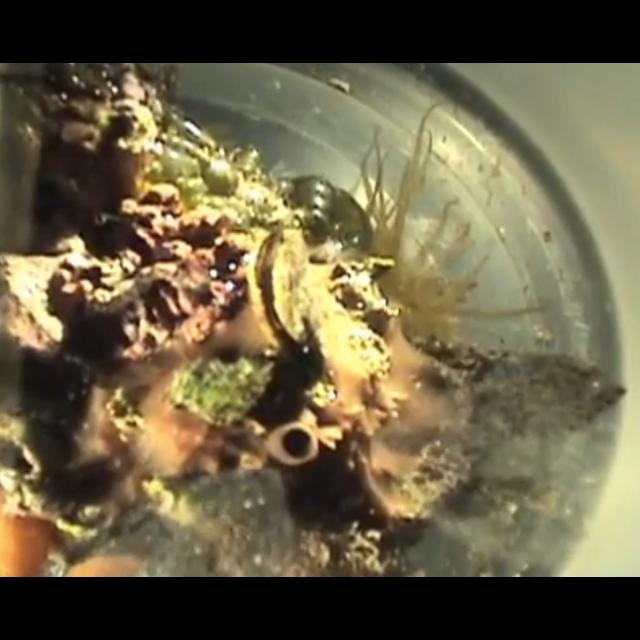Oyster-Open: (244, 228, 306, 354)
